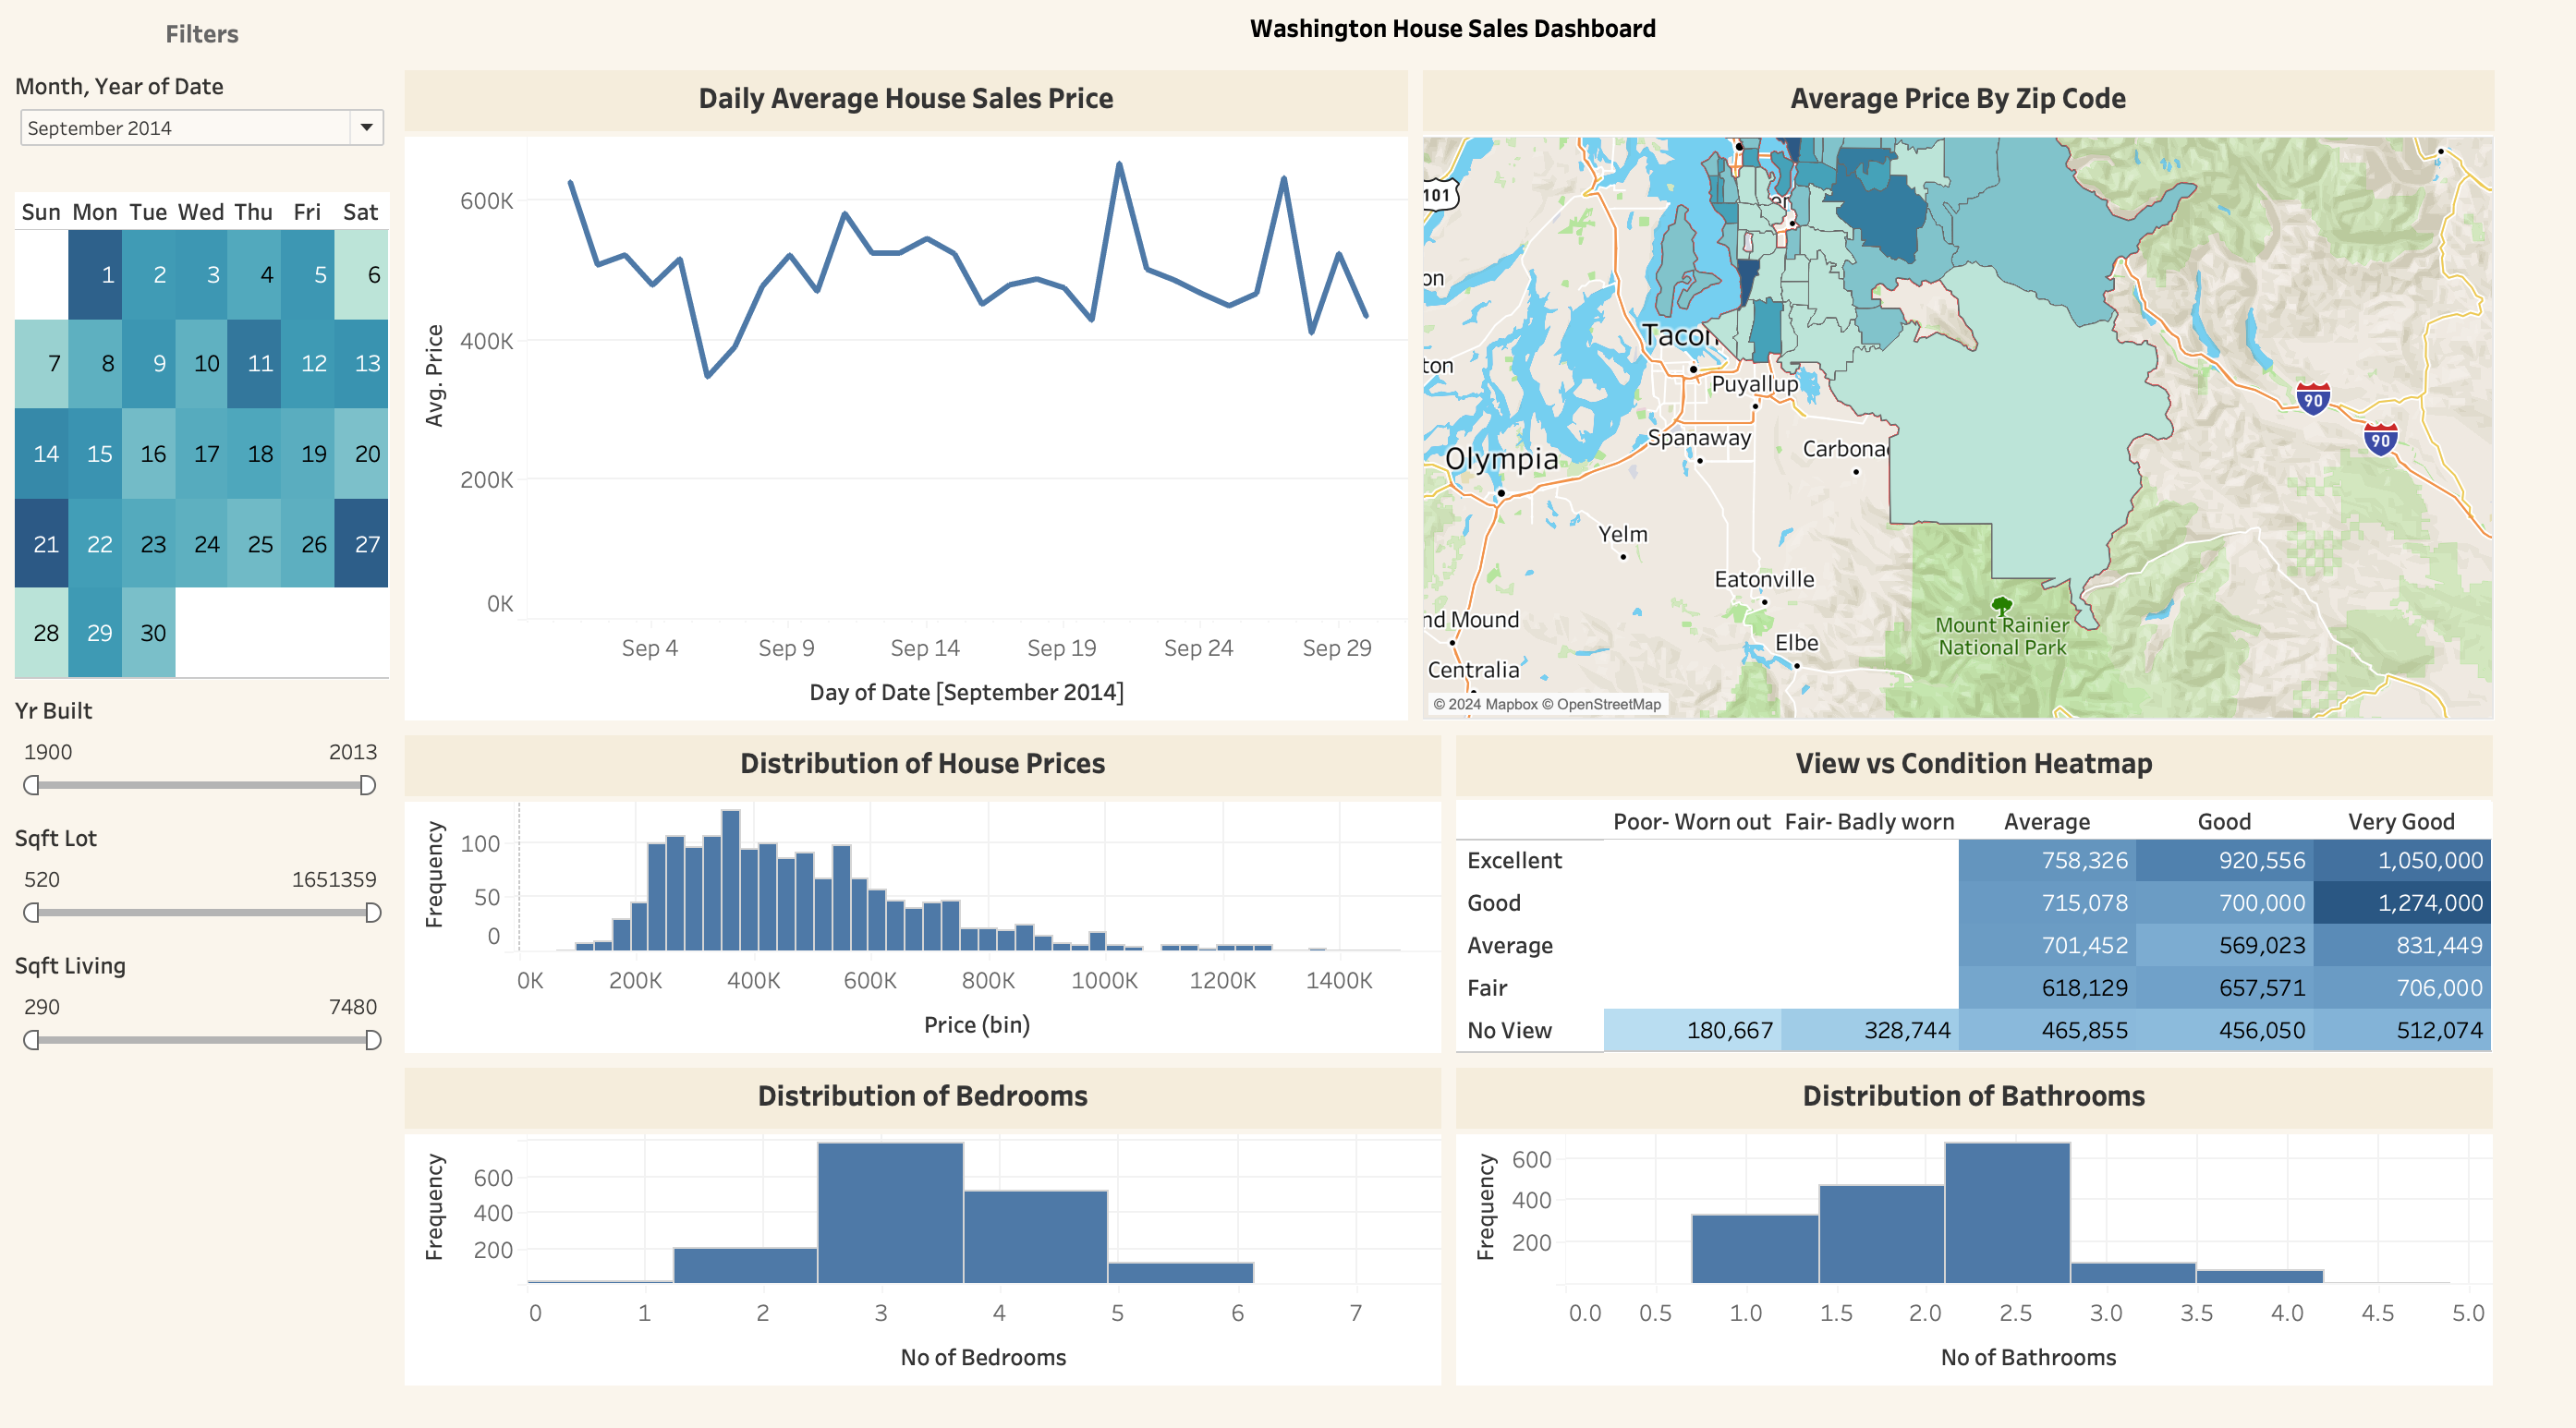

The dashboard page shown, as its layout file describes it:
{"tool":"tableau","page":{"name":"Sales Dashboard","canvas":[1366,768],"ordinal":0},"visuals":[{"type":"text","box":[8,8,211,32]},{"type":"filter","title":"Calander","param":"[federated.1rt1n2q1vmdc79132r4zr1k0ml1c].[my:date:ok]","box":[8,40,211,66]},{"type":"worksheet","title":"Daily Average House Sales Price","mark":"Automatic","rows":["price"],"cols":["date"],"box":[219,40,551.5,360]},{"type":"worksheet","title":"Map","mark":"Multipolygon","rows":["lat"],"cols":["long"],"box":[770.5,40,587.5,360]},{"type":"worksheet","title":"Calander","mark":"Square","rows":["date"],"cols":["date"],"box":[8,106,211,272]},{"type":"filter","title":"Calander","param":"[federated.1rt1n2q1vmdc79132r4zr1k0ml1c].[none:yr_built:qk]","box":[8,378,211,69]},{"type":"worksheet","title":"Distribution of House Prices","mark":"Automatic","rows":["price"],"cols":["Price (bin)"],"box":[219,400,569.5,180]},{"type":"worksheet","title":"Heatmap","mark":"Square","rows":["view"],"cols":["condition"],"box":[788.5,400,569.5,180]},{"type":"filter","title":"Calander","param":"[federated.1rt1n2q1vmdc79132r4zr1k0ml1c].[none:sqft_lot:qk]","box":[8,447,211,69]},{"type":"filter","title":"Calander","param":"[federated.1rt1n2q1vmdc79132r4zr1k0ml1c].[none:sqft_living:qk]","box":[8,516,211,69]},{"type":"worksheet","title":"Distribution of Bedrooms","mark":"Automatic","rows":["bedrooms"],"cols":["Bedrooms (bin)"],"box":[219,580,569.5,180]},{"type":"worksheet","title":"Distribution of Bathrooms","mark":"Automatic","rows":["bathrooms"],"cols":["Bathrooms (bin)"],"box":[788.5,580,569.5,180]}]}

Visuals, with their boxes in screenshot pixels (x1, y1, x2, y2), scaled from the page's 1366x768 canvas onto the 2576x1428 screenshot:
text: crop(15, 15, 413, 75)
"Calander" filter: crop(15, 75, 413, 197)
"Daily Average House Sales Price" worksheet: crop(413, 75, 1453, 744)
"Map" worksheet (Multipolygon marks): crop(1453, 75, 2561, 744)
"Calander" worksheet (Square marks): crop(15, 197, 413, 703)
"Calander" filter: crop(15, 703, 413, 831)
"Distribution of House Prices" worksheet: crop(413, 744, 1487, 1079)
"Heatmap" worksheet (Square marks): crop(1487, 744, 2561, 1079)
"Calander" filter: crop(15, 831, 413, 960)
"Calander" filter: crop(15, 960, 413, 1088)
"Distribution of Bedrooms" worksheet: crop(413, 1079, 1487, 1413)
"Distribution of Bathrooms" worksheet: crop(1487, 1079, 2561, 1413)
